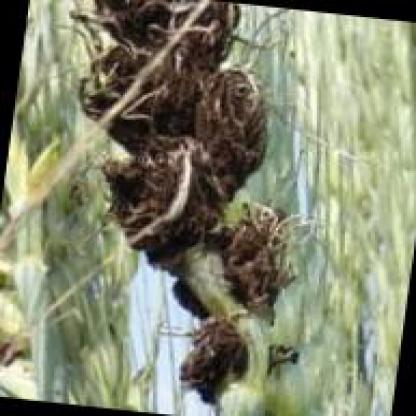Wheat Smut: (121, 0, 229, 51), (100, 54, 162, 123), (240, 216, 282, 290), (170, 57, 216, 123), (115, 196, 214, 223), (137, 147, 248, 171), (149, 127, 260, 144), (114, 178, 232, 192), (221, 74, 254, 122), (201, 349, 239, 377), (136, 228, 196, 244), (197, 320, 226, 342), (149, 250, 182, 262), (182, 361, 198, 384), (118, 126, 142, 141), (203, 382, 221, 399), (273, 348, 290, 362)
